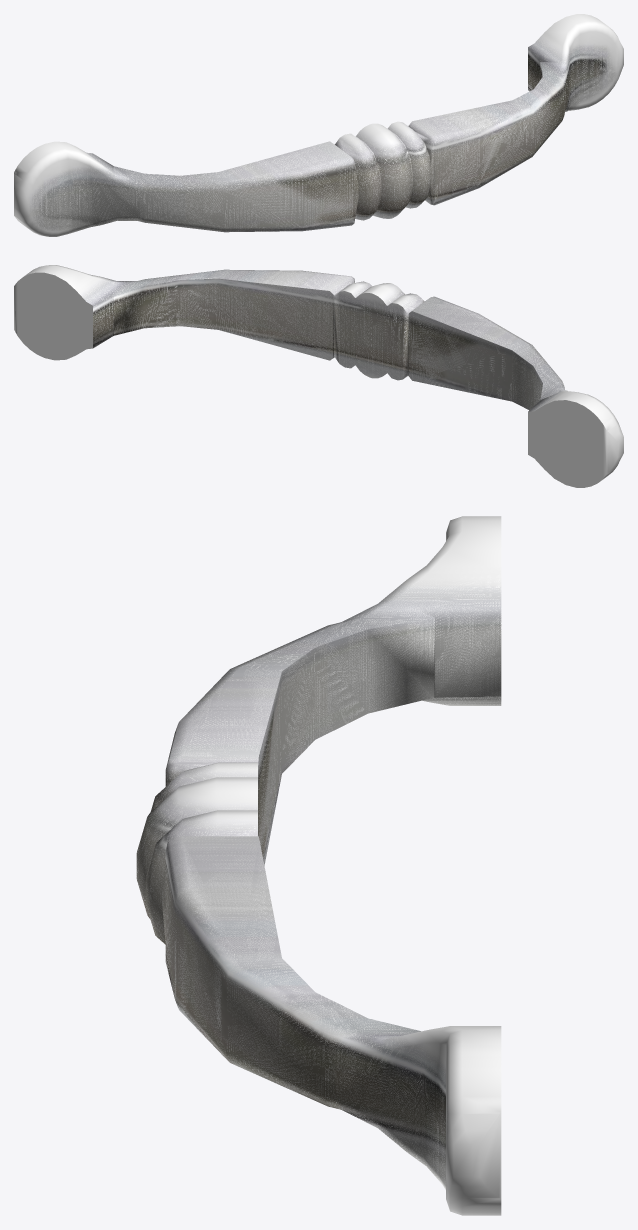
File: original-50.obj
3 views of the same model, one above another, from view 1: azimuth 30°, elevation 25°; view 2: azimuth 150°, elevation 25°; view 3: azimuth 270°, elevation 25° (orthographic). The views are drawn at different scales.
Visible parts, largest first — view 1: mesh31/mesh31-geometry#mesh31-geometry; view 2: mesh31/mesh31-geometry#mesh31-geometry; view 3: mesh31/mesh31-geometry#mesh31-geometry.
Boxes of the visible parts, x1,y1,x2,y2 form: mesh31/mesh31-geometry#mesh31-geometry: (14,14,623,236); mesh31/mesh31-geometry#mesh31-geometry: (14,265,623,487); mesh31/mesh31-geometry#mesh31-geometry: (136,516,501,1215).
Bounding box in the file's own units: 0.1907 × 0.0258 × 0.0499.
